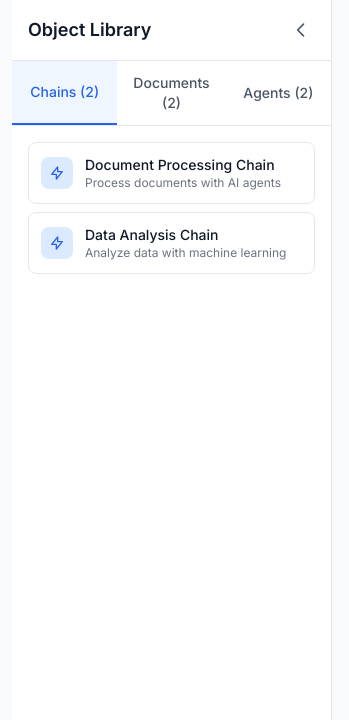
Test: LeftSidebar › Section Navigation › switches back to chains section when clicked
Switch to documents first
Step 1. Click the button "Documents (2)" → (171,93), box x1=117 y1=61 x2=226 y2=125
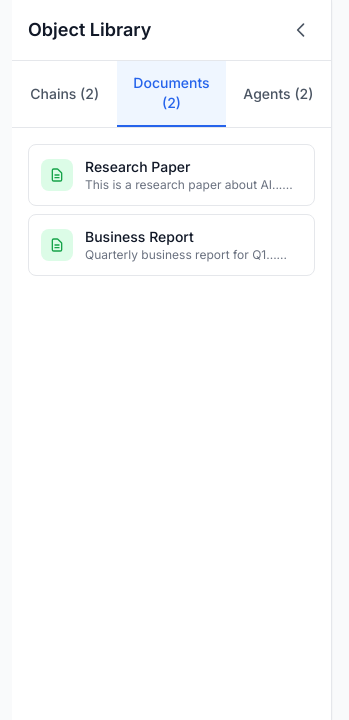
Result: the heading "Research Paper" is shown at x1=85 y1=158 x2=190 y2=175
Switch back to chains
Step 2. Click the button "Chains (2)" → (65,94), box x1=12 y1=61 x2=117 y2=127
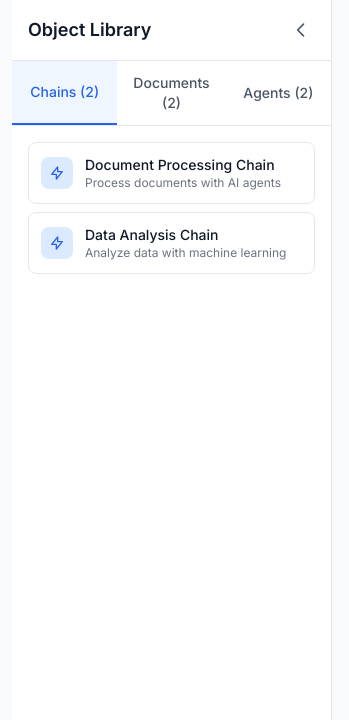
Result: the heading "Document Processing Chain" is shown at x1=85 y1=155 x2=302 y2=175
Result: the heading "Research Paper" is gone
